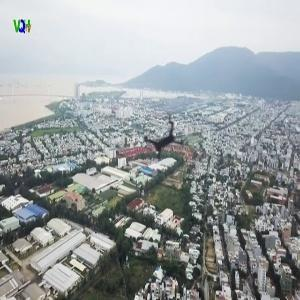drone: (119, 95, 208, 184)
